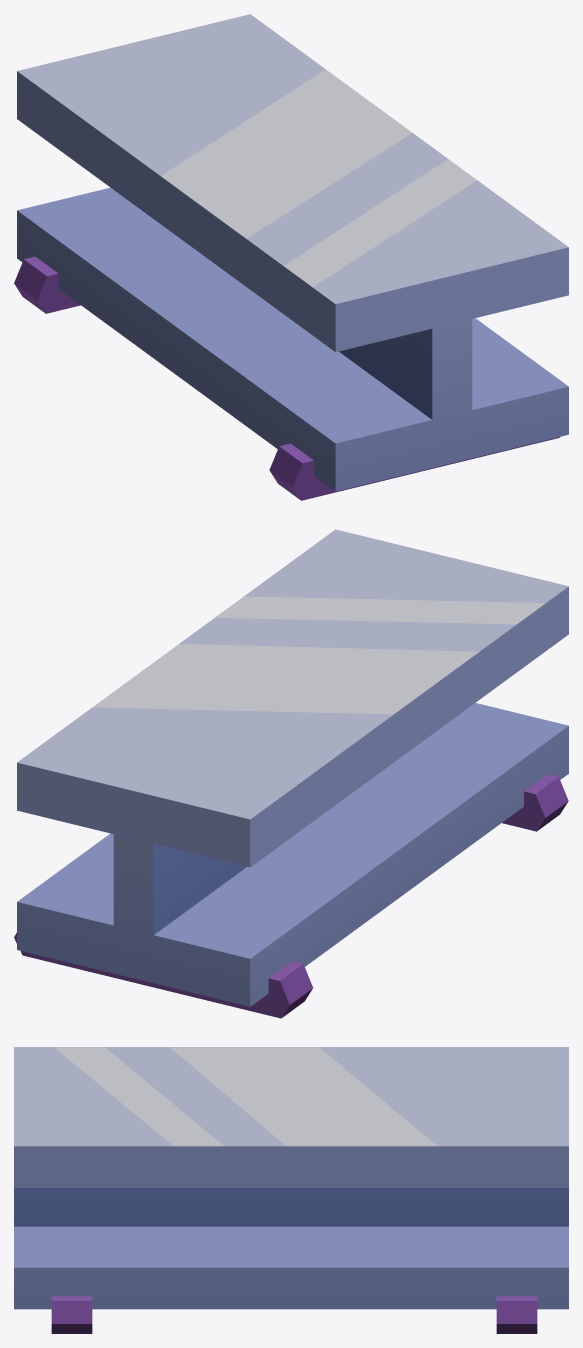
File: obstacle-steel_beam_platform_rooftops_H1.glb
3 renders of one model, top to bottom at view 1: azimuth 30°, elevation 25°; view 2: azimuth 150°, elevation 25°; view 3: azimuth 270°, elevation 25°, orthographic. The views are drawn at different scales.
Parts seen in each view (by area): view 1: obstacle-steel_beam_platform_rooftops_H1; view 2: obstacle-steel_beam_platform_rooftops_H1; view 3: obstacle-steel_beam_platform_rooftops_H1.
Part boxes in pixels (bbox=[...]): obstacle-steel_beam_platform_rooftops_H1: bbox=[14, 14, 568, 500]; obstacle-steel_beam_platform_rooftops_H1: bbox=[14, 529, 568, 1018]; obstacle-steel_beam_platform_rooftops_H1: bbox=[14, 1047, 568, 1333].
Bounding box in the file's own units: 3 × 2.18 × 6.
